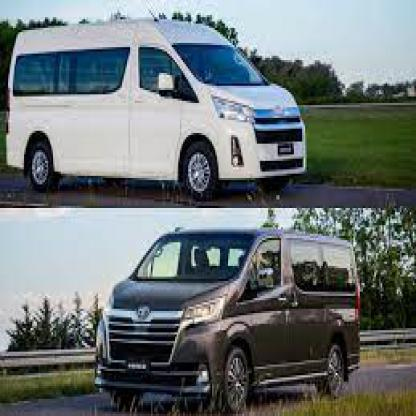van: (13, 18, 316, 190), (92, 221, 362, 412)
